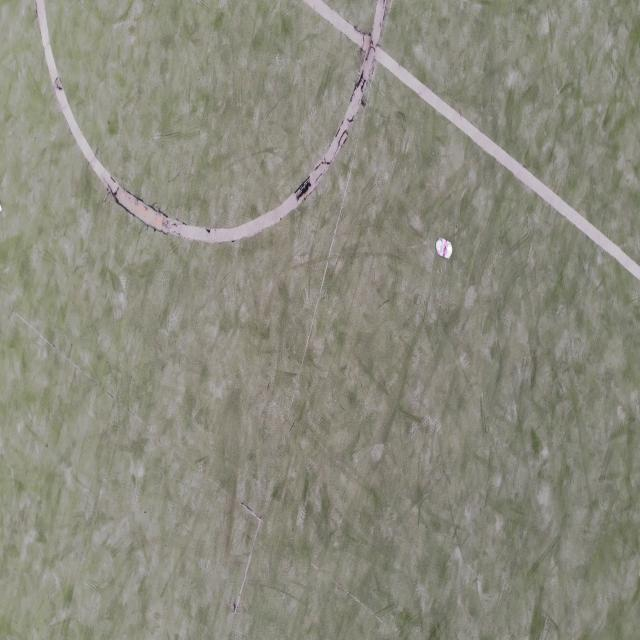rubbish: (436, 237, 453, 258)
